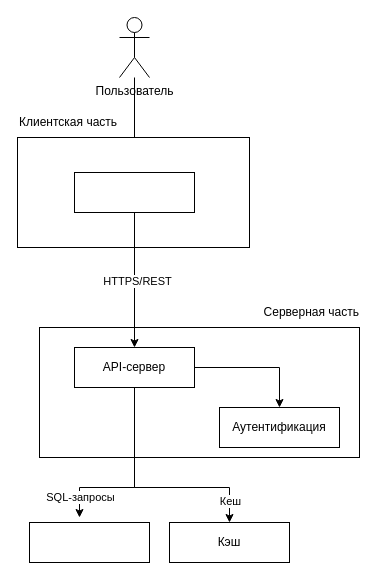
This 379x580 diagram has some shape labels left out. Each missing label, with the centre of its shape:
База данных: the point at 89,542
Веб-интерфейс: the point at 134,192
